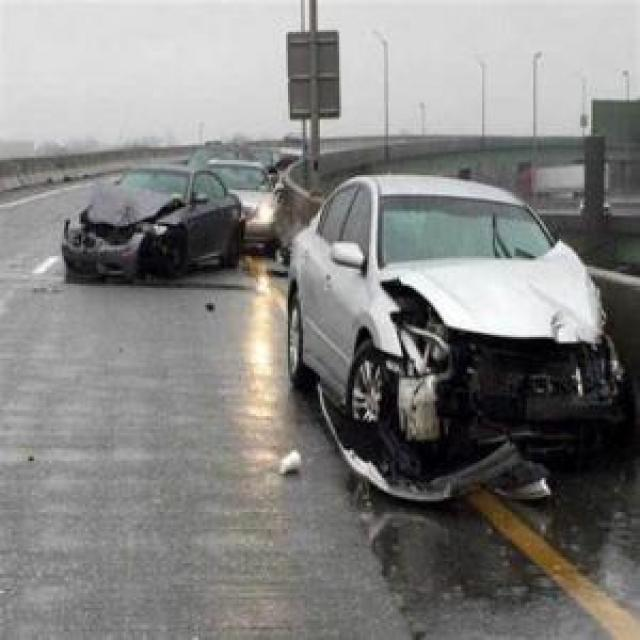ice-road: (0, 175, 640, 640)
